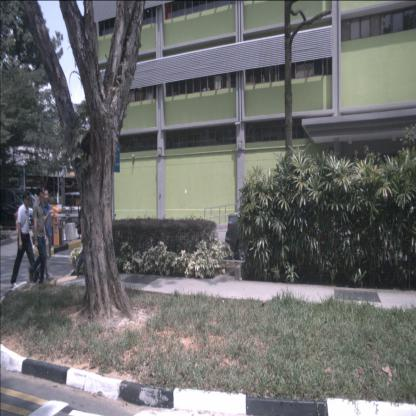human-pedestrian-adult: (11, 189, 39, 288), (35, 188, 57, 285), (28, 184, 48, 287)
vehicle-car: (225, 200, 316, 262), (0, 186, 44, 230)
